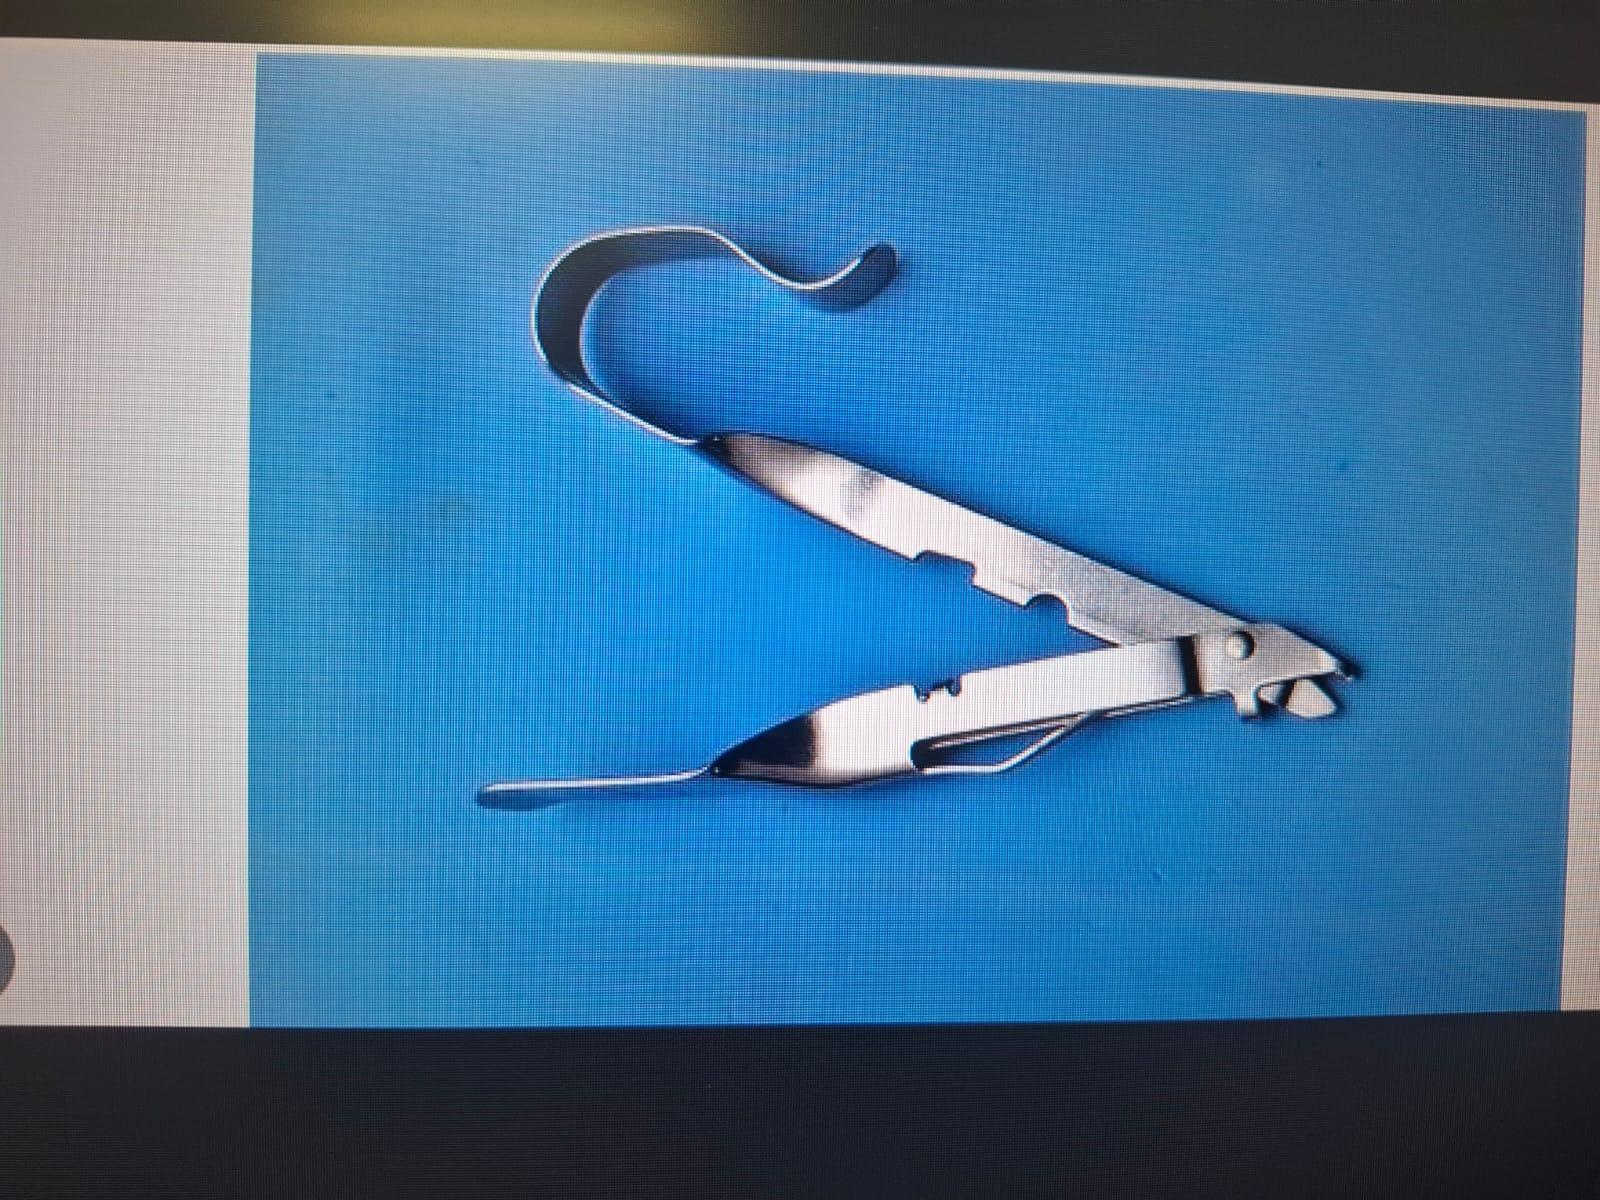Stapler Remover: (446, 200, 1364, 848)
